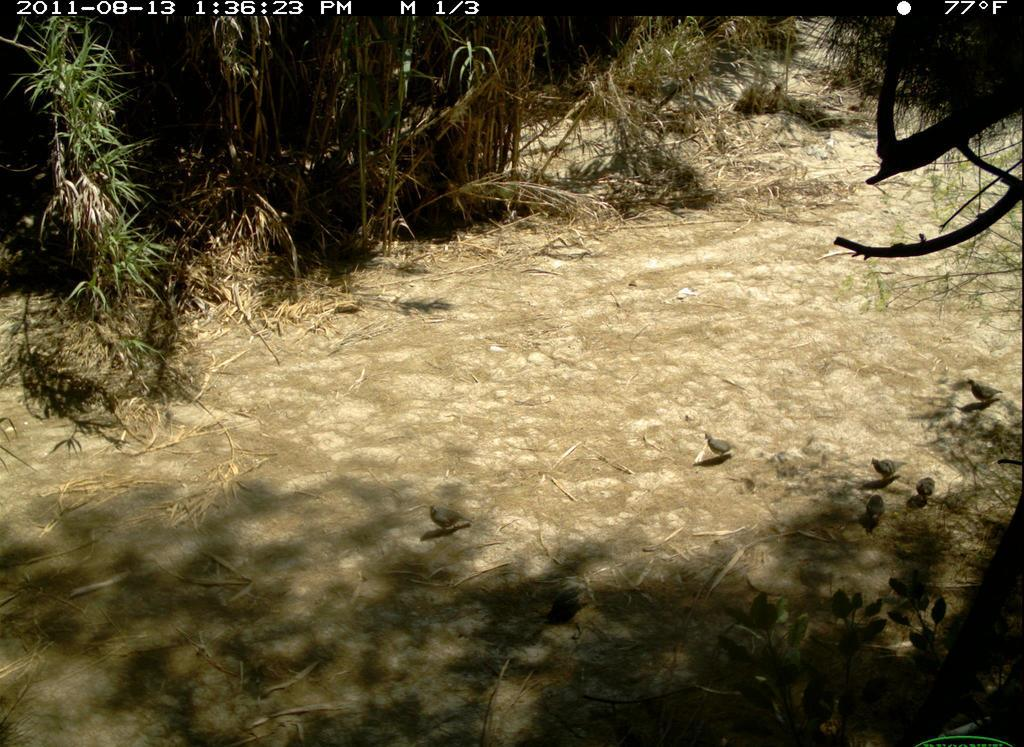bird: (423, 496, 473, 542), (963, 374, 1007, 411), (703, 425, 743, 465), (857, 492, 895, 529), (865, 454, 911, 484), (914, 474, 945, 511)
